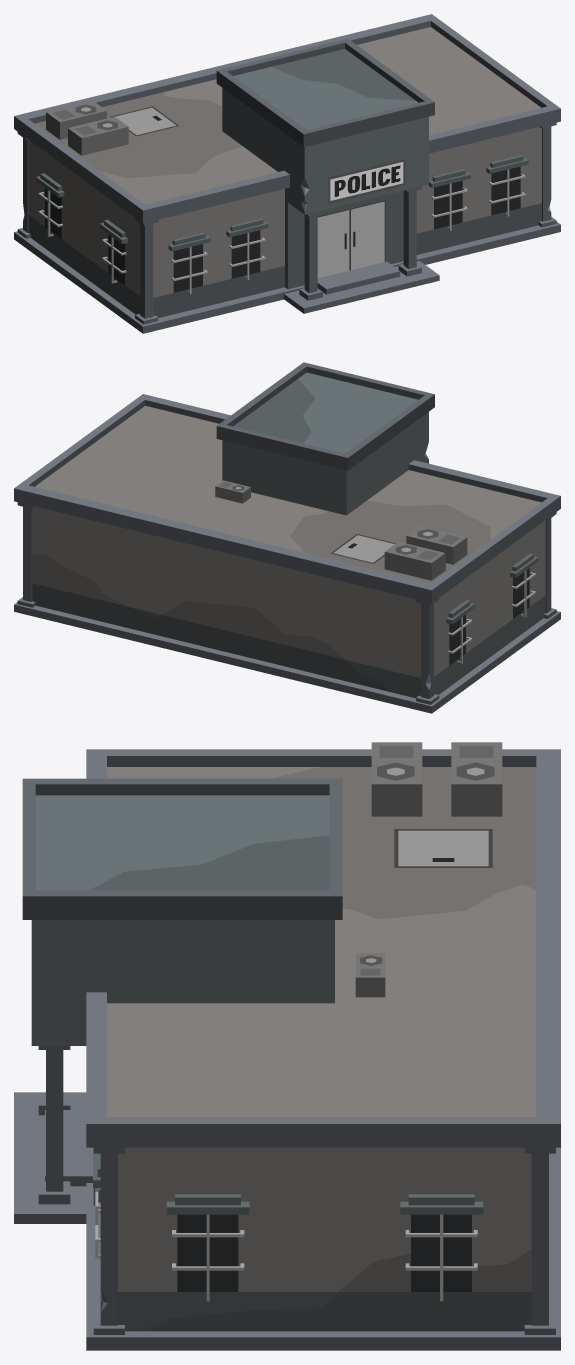
File: SA_Bld_PoliceStation_Damaged_01.gltf
3 renders of one model, top to bottom at view 1: azimuth 30°, elevation 25°; view 2: azimuth 150°, elevation 25°; view 3: azimuth 270°, elevation 25°, orthographic. The views are drawn at different scales.
Visible parts, largest first — view 1: SA_Bld_PoliceStation_Damaged_01; view 2: SA_Bld_PoliceStation_Damaged_01; view 3: SA_Bld_PoliceStation_Damaged_01.
Boxes of the visible parts, <box> form: SA_Bld_PoliceStation_Damaged_01: <box>14,14,560,333</box>; SA_Bld_PoliceStation_Damaged_01: <box>14,362,560,713</box>; SA_Bld_PoliceStation_Damaged_01: <box>14,742,560,1350</box>.
Size of the model in its own units: 24.31 by 9.86 by 15.
Materials: 1 (1 with a texture image).
